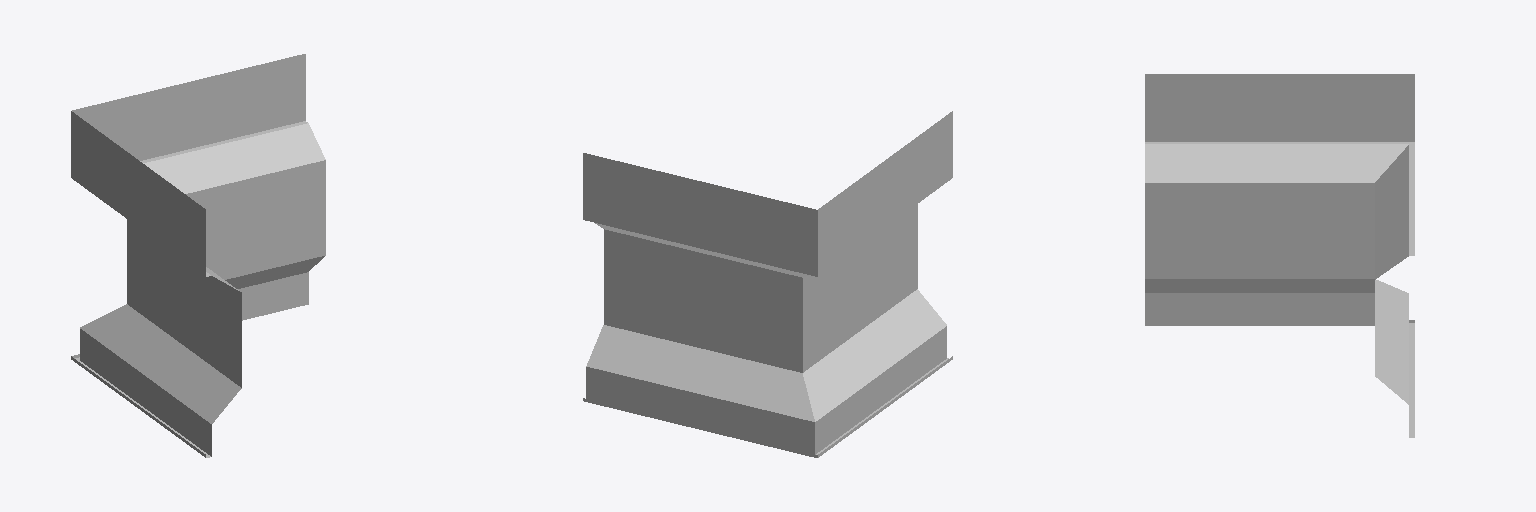
File: greybox_wall_interior_corner_03.obj
3 views of the same model, side by side, from view 1: azimuth 30°, elevation 25°; view 2: azimuth 150°, elevation 25°; view 3: azimuth 270°, elevation 25° (orthographic).
Parts seen in each view (by area): view 1: pCube17; view 2: pCube17; view 3: pCube17.
Boxes of the visible parts, x1,y1,x2,y2 form: pCube17: [71, 54, 325, 457]; pCube17: [583, 111, 952, 457]; pCube17: [1145, 74, 1414, 437].
Size of the model in its own units: 4 by 4.05 by 4.